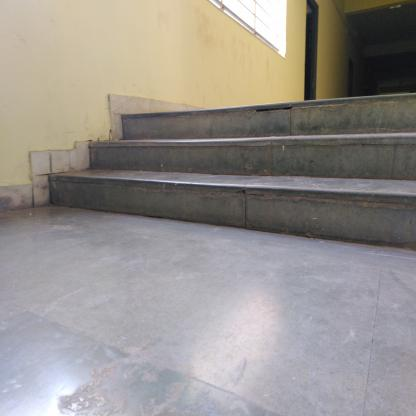stairs: (122, 103, 416, 224)
